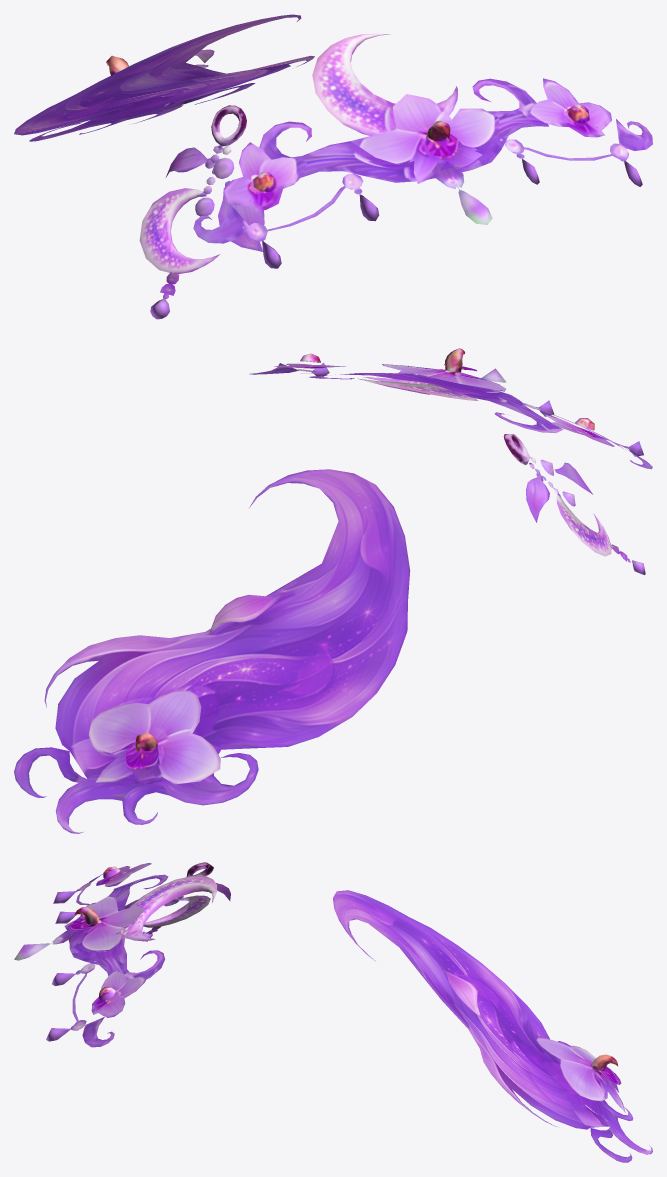
The model's file is MoonOrchidWear.fbx.
The picture shows the model from 3 angles, top to bottom: view 1: azimuth 30°, elevation 25°; view 2: azimuth 150°, elevation 25°; view 3: azimuth 270°, elevation 25°; orthographic projection. The views are drawn at different scales.
Visible parts, largest first — view 1: Tiara, Hair, Charm; view 2: Hair, Tiara, Charm; view 3: Hair, Tiara, Charm.
Part boxes in pixels (left/top/right/bottom): Tiara: left=193, top=33, right=652, bottom=268; Hair: left=14, top=14, right=314, bottom=141; Charm: left=139, top=105, right=264, bottom=319; Hair: left=14, top=469, right=410, bottom=833; Tiara: left=249, top=348, right=652, bottom=469; Charm: left=503, top=434, right=645, bottom=574; Hair: left=333, top=890, right=652, bottom=1162; Tiara: left=14, top=863, right=217, bottom=1047; Charm: left=124, top=862, right=230, bottom=941.
Size of the model in its own units: 0.8554 by 0.5421 by 1.31.
Materials: 1 (1 with a texture image).
